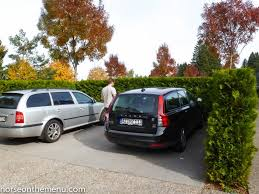car: (105, 86, 205, 150), (1, 88, 106, 143)
